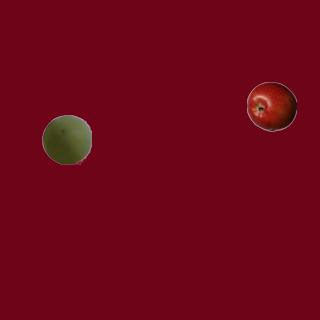Apple Braeburn: (246, 81, 296, 131)
Grape White 4: (41, 114, 91, 164)
